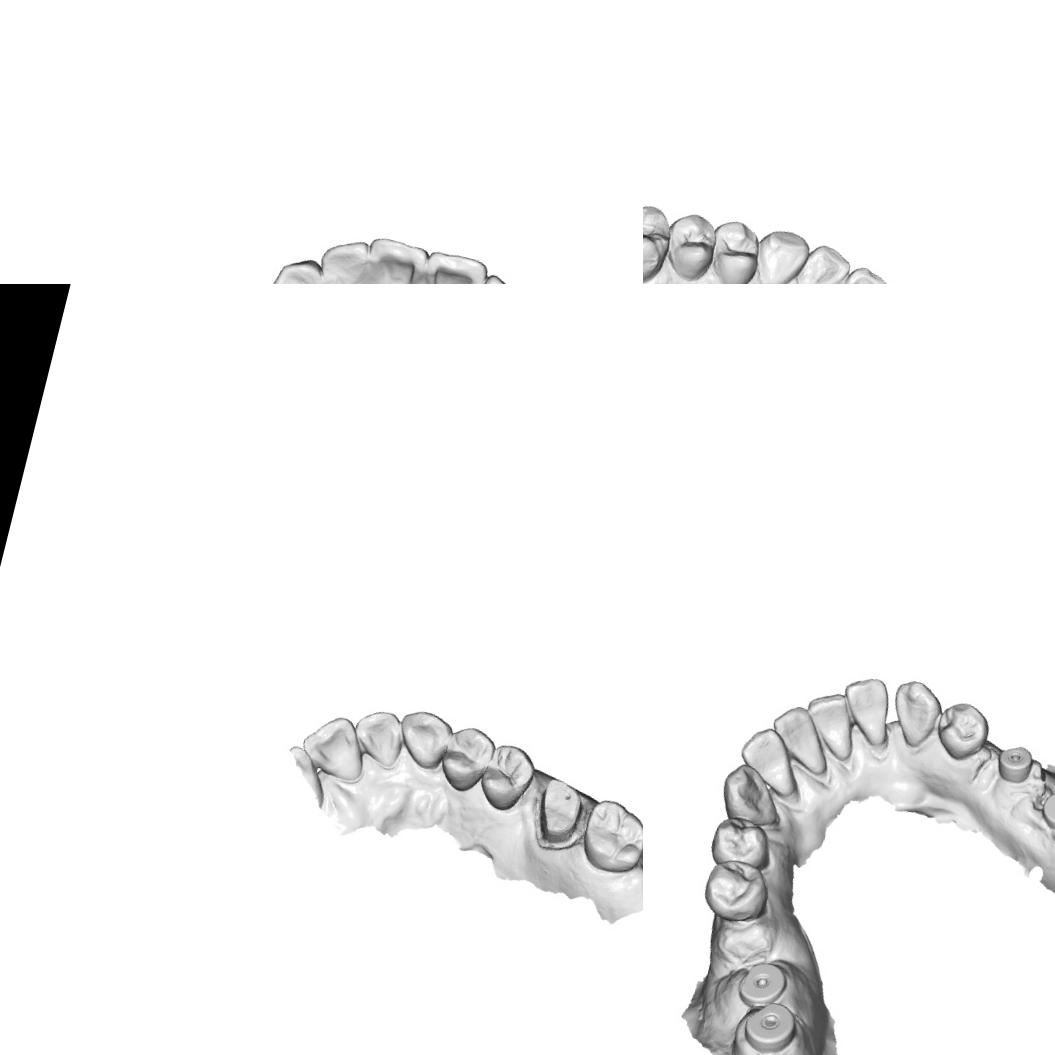canine: (713, 758, 790, 831), (880, 675, 946, 752), (390, 703, 456, 775), (747, 223, 813, 284), (258, 250, 331, 284)
crown: (525, 773, 593, 854)
implant: (736, 994, 801, 1055), (734, 955, 791, 1014), (991, 739, 1038, 788), (1035, 786, 1055, 835)
incisor: (291, 706, 376, 786), (761, 698, 841, 778), (832, 670, 900, 748), (796, 684, 864, 762), (344, 702, 414, 774), (732, 720, 798, 786), (358, 234, 434, 284), (311, 233, 379, 284), (791, 239, 854, 284), (413, 247, 488, 284), (825, 260, 904, 284)
molar: (573, 793, 643, 882), (643, 193, 676, 284)
premolar: (696, 852, 776, 929), (472, 738, 540, 818), (434, 720, 498, 800), (657, 207, 723, 284), (704, 810, 780, 876), (928, 695, 996, 766), (700, 214, 766, 284)
